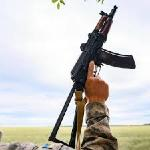Senapan: (49, 4, 141, 146)
